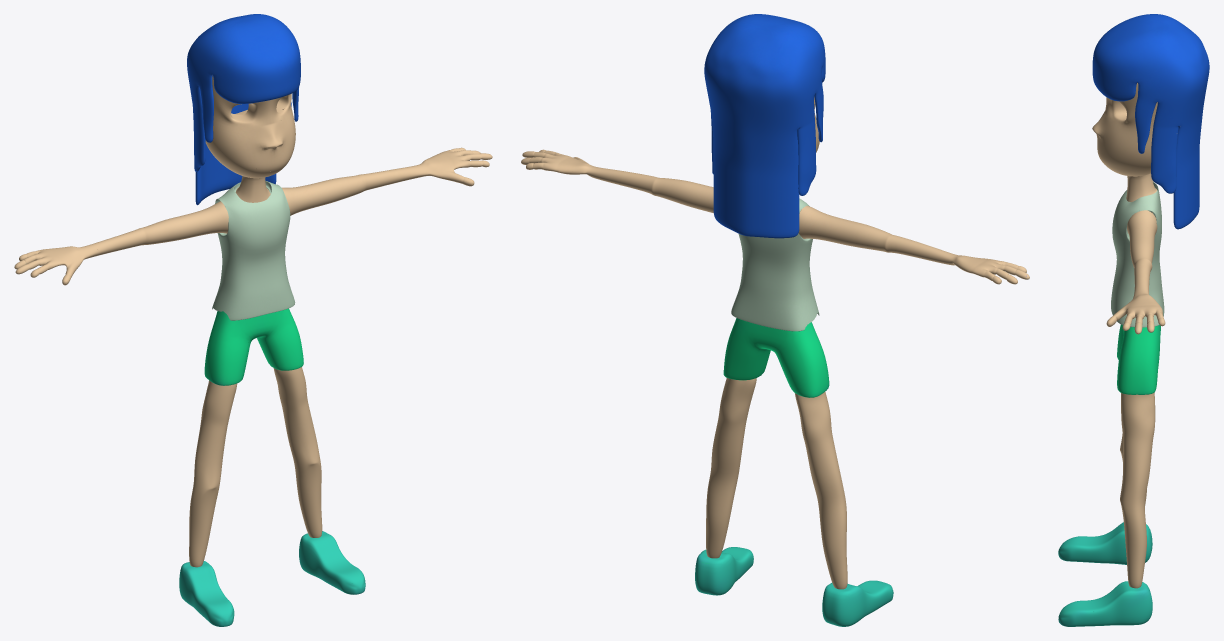
The model's file is player2.fbx.
The picture shows the model from 3 angles, left to right: view 1: azimuth 30°, elevation 25°; view 2: azimuth 150°, elevation 25°; view 3: azimuth 270°, elevation 25°; orthographic projection. The views are drawn at different scales.
Visible parts, largest first — view 1: polySurface133; view 2: polySurface133; view 3: polySurface133.
Part boxes in pixels (bbox=[...]): polySurface133: bbox=[14, 14, 492, 626]; polySurface133: bbox=[521, 14, 1029, 626]; polySurface133: bbox=[1058, 14, 1209, 626].
Size of the model in its own units: 5.55 by 6.18 by 1.5.
1 material, 1 textured.
